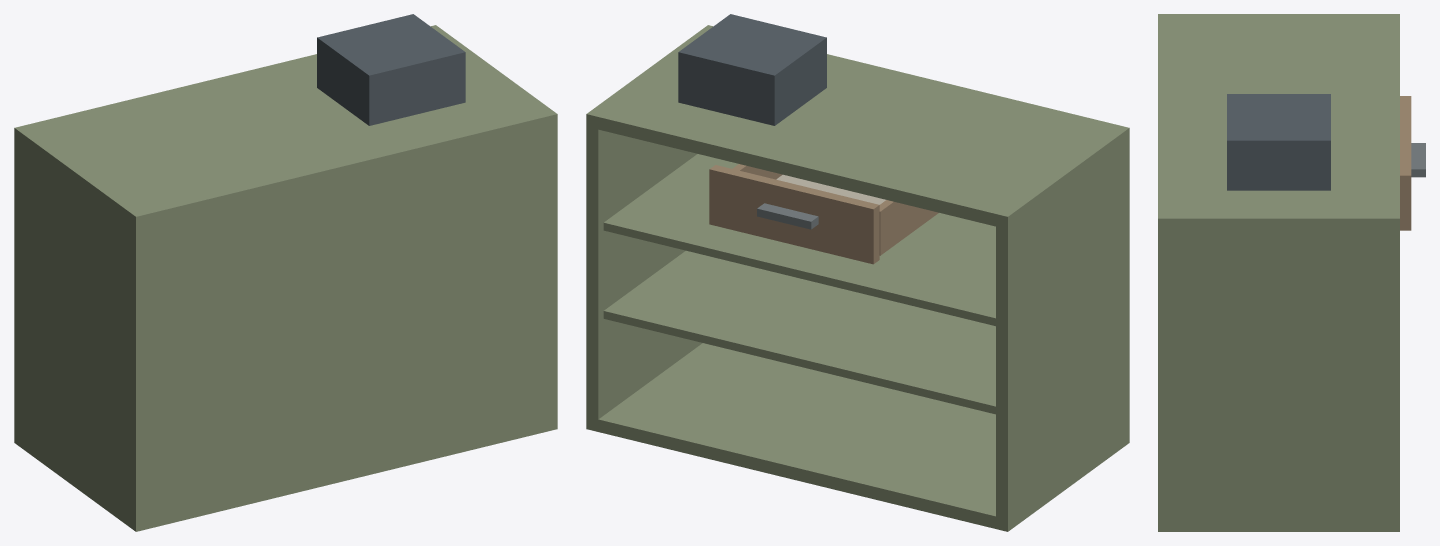
The model's file is market_checkout.glb.
3 renders of one model, left to right at view 1: azimuth 30°, elevation 25°; view 2: azimuth 150°, elevation 25°; view 3: azimuth 270°, elevation 25°, orthographic.
Parts seen in each view (by area): view 1: body; view 2: body, drawer_01; view 3: body, drawer_01.
Boxes of the visible parts, left/top/right/bottom form: body: left=14, top=14, right=557, bottom=531; body: left=586, top=14, right=1129, bottom=531; drawer_01: left=709, top=164, right=938, bottom=264; body: left=1158, top=14, right=1399, bottom=531; drawer_01: left=1400, top=96, right=1425, bottom=230.
Bounding box in the file's own units: 1.4 × 1.16 × 0.775.
